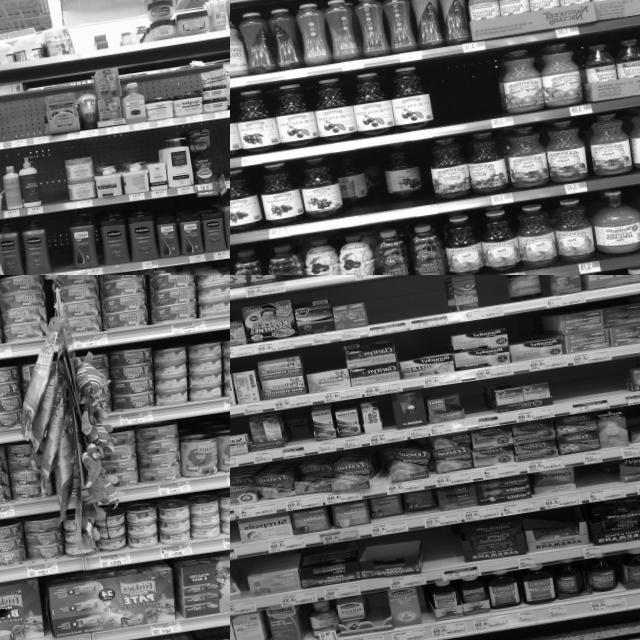100- O.O.S: (429, 58, 503, 134), (550, 361, 628, 415), (362, 276, 408, 336), (402, 275, 449, 330), (36, 151, 70, 212), (426, 528, 464, 582), (44, 216, 75, 275), (475, 275, 509, 318), (462, 382, 493, 429), (576, 462, 610, 504), (2, 99, 30, 148), (25, 99, 47, 145), (378, 394, 396, 443), (218, 131, 230, 189), (230, 522, 240, 564), (0, 104, 7, 150), (281, 275, 304, 289)
